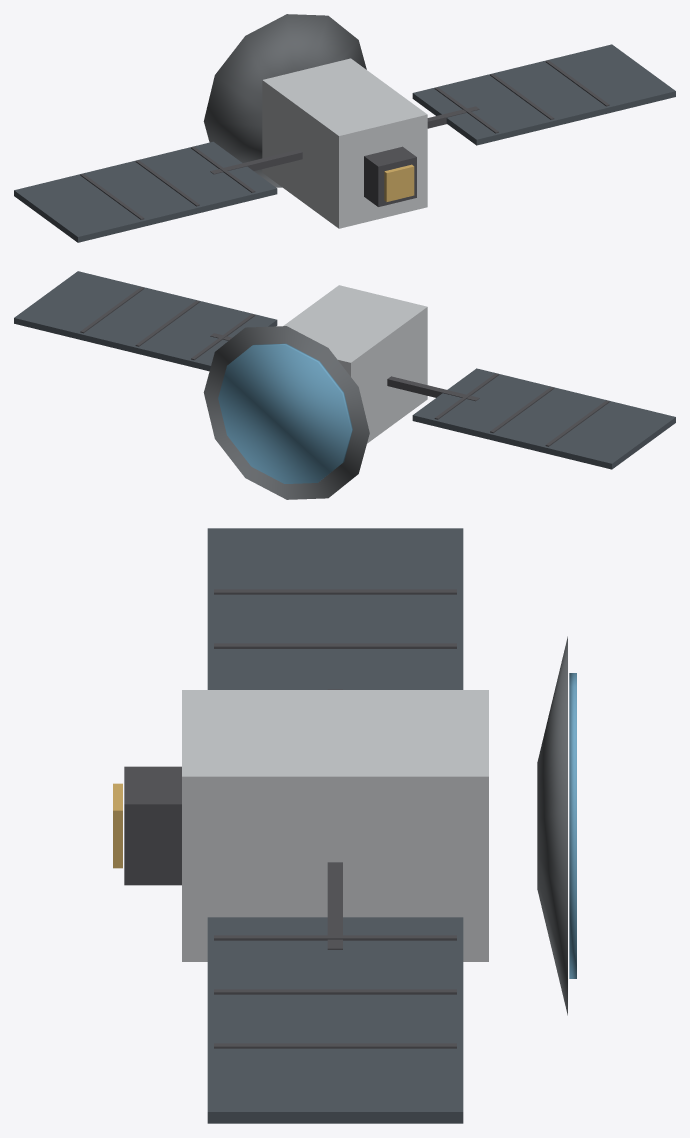
The model's file is prop_satellite.glb.
3 views of the same model, one above another, from view 1: azimuth 30°, elevation 25°; view 2: azimuth 150°, elevation 25°; view 3: azimuth 270°, elevation 25° (orthographic). The views are drawn at different scales.
Parts seen in each view (by area): view 1: prop_satellite; view 2: prop_satellite; view 3: prop_satellite.
Boxes of the visible parts, box(x1,y1,x2,y2) form: prop_satellite: box(14, 14, 675, 242); prop_satellite: box(14, 271, 675, 499); prop_satellite: box(113, 528, 576, 1123).
Size of the model in its own units: 10.8 by 3 by 3.63.
